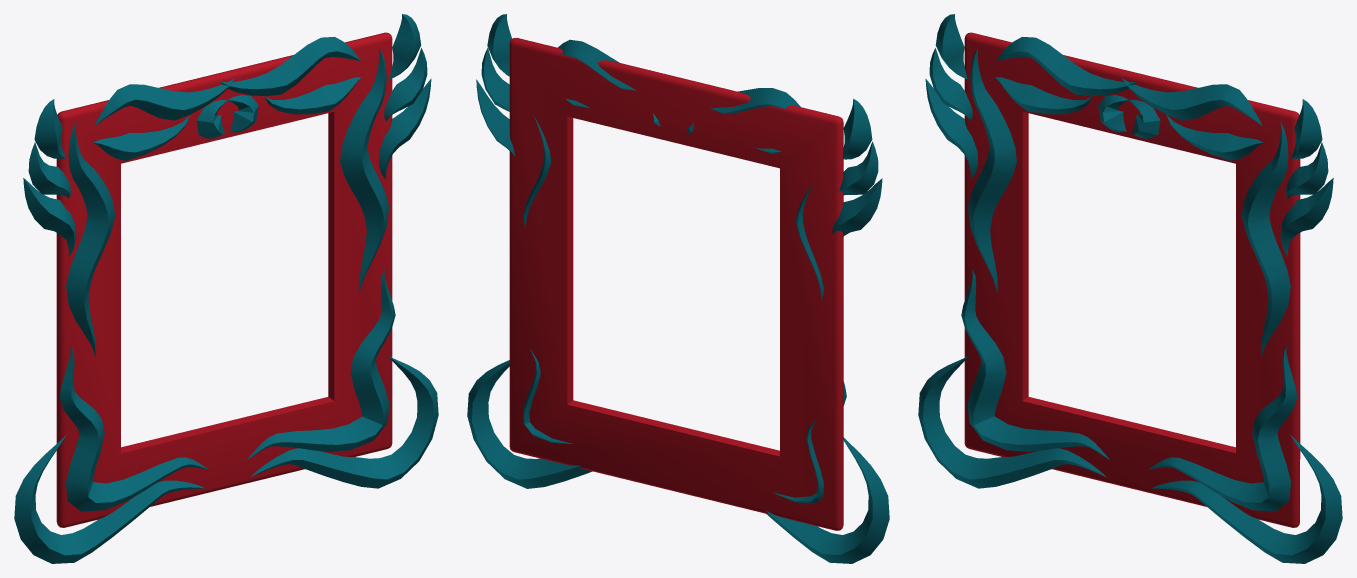
Rendered from Antique Photo Frame 2.fbx.
3 renders of one model, left to right at view 1: azimuth 30°, elevation 25°; view 2: azimuth 150°, elevation 25°; view 3: azimuth 330°, elevation 25°, orthographic.
Parts seen in each view (by area): view 1: Frame.002; view 2: Frame.002; view 3: Frame.002.
Boxes of the visible parts, left/top/right/bottom form: Frame.002: left=14, top=14, right=438, bottom=563; Frame.002: left=467, top=14, right=889, bottom=563; Frame.002: left=918, top=14, right=1342, bottom=563.
Size of the model in its own units: 110 by 116 by 8.04.
